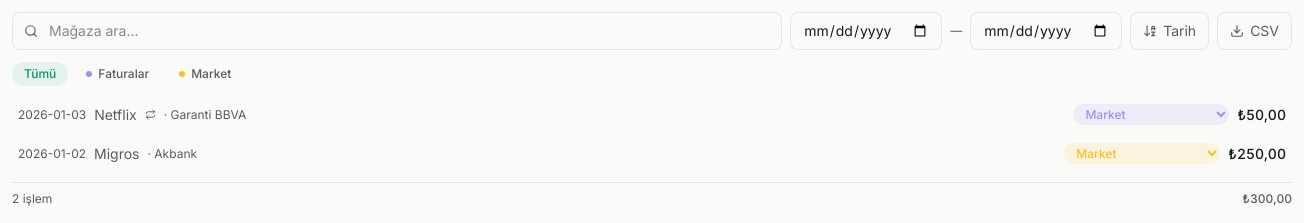
Test: AllTransactionsView › toggles sorting between date and amount
Expected: the text "Migros" is shown, [94,144,140,162]
Step 1. Click the button "Tarih" → click(1170, 31), box [1130,12,1209,50]
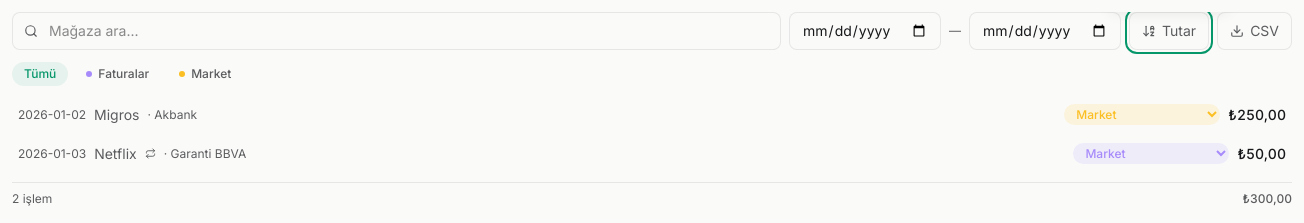
Expected: the button "Tutar" is shown, [1129,12,1209,50]
